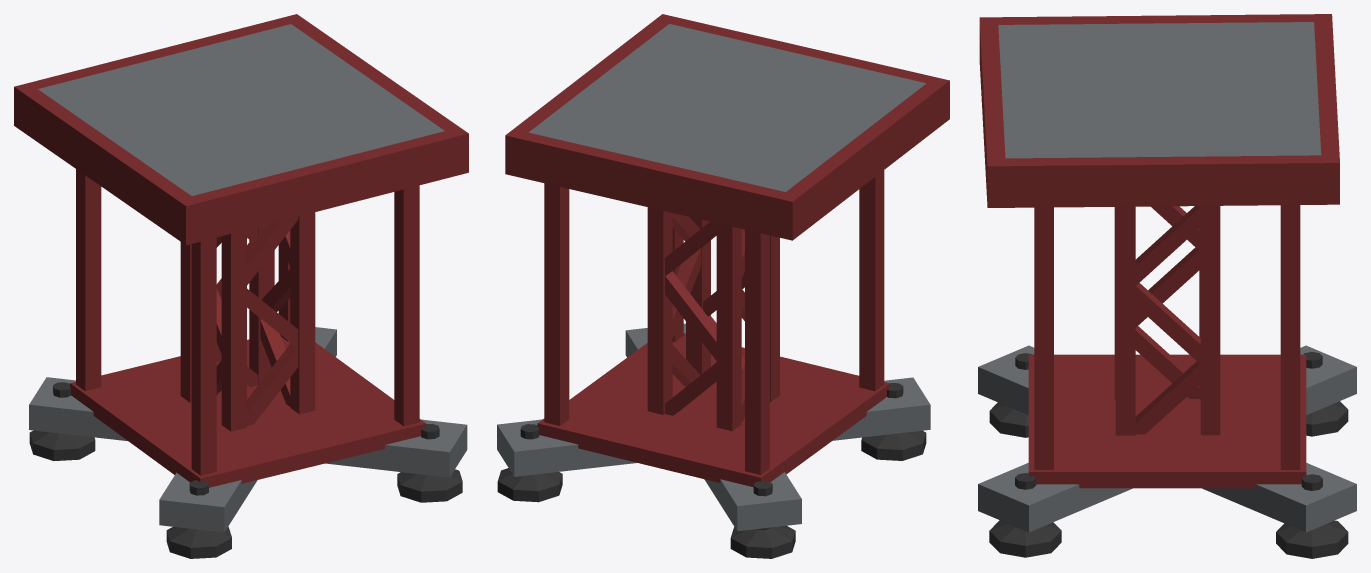
Rendered from DarkRedMetalDecorationSmallConstructionTower1.fbx.
3 renders of one model, left to right at view 1: azimuth 30°, elevation 25°; view 2: azimuth 150°, elevation 25°; view 3: azimuth 270°, elevation 25°, orthographic. The views are drawn at different scales.
Visible parts, largest first — view 1: DarkRedMetalDecorationSmallConstructionTower1; view 2: DarkRedMetalDecorationSmallConstructionTower1; view 3: DarkRedMetalDecorationSmallConstructionTower1.
Part boxes in pixels (x1,y1,x2,y2): DarkRedMetalDecorationSmallConstructionTower1: (14,14,468,558); DarkRedMetalDecorationSmallConstructionTower1: (497,14,949,558); DarkRedMetalDecorationSmallConstructionTower1: (978,14,1356,558).
Bounding box in the file's own units: 782 × 874 × 775.
